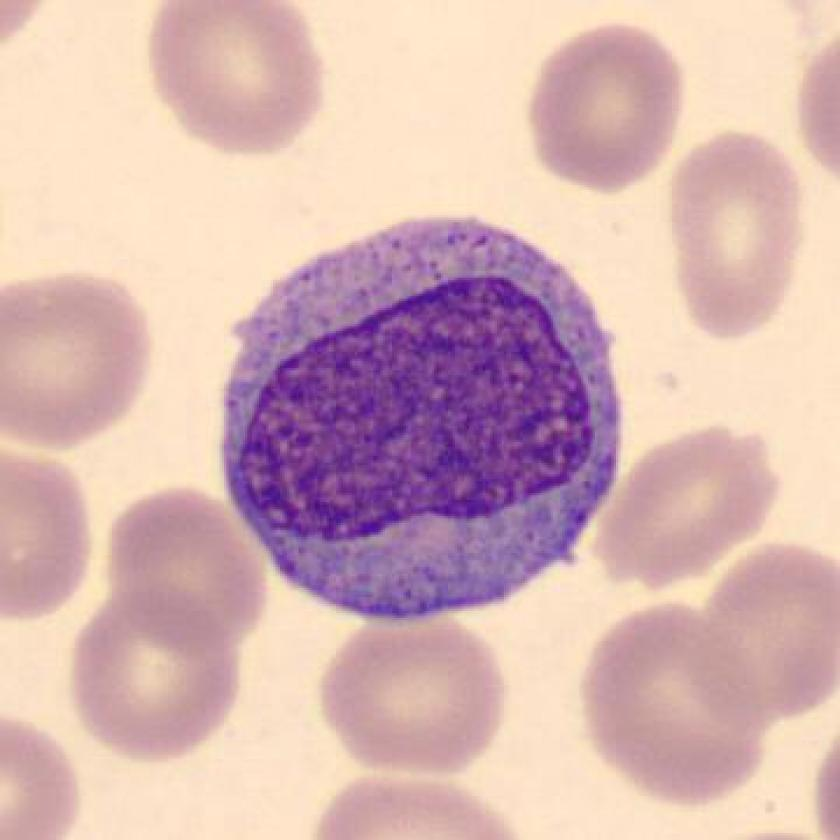monocyte: (206, 200, 643, 635)
